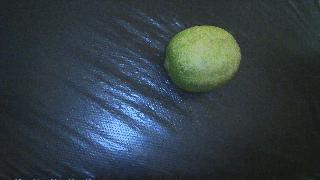DESECHO: (165, 26, 241, 92)
